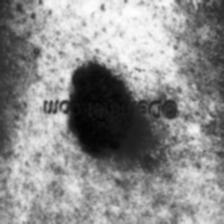Potentially Malignant Skin Tumors: (69, 53, 136, 161)
